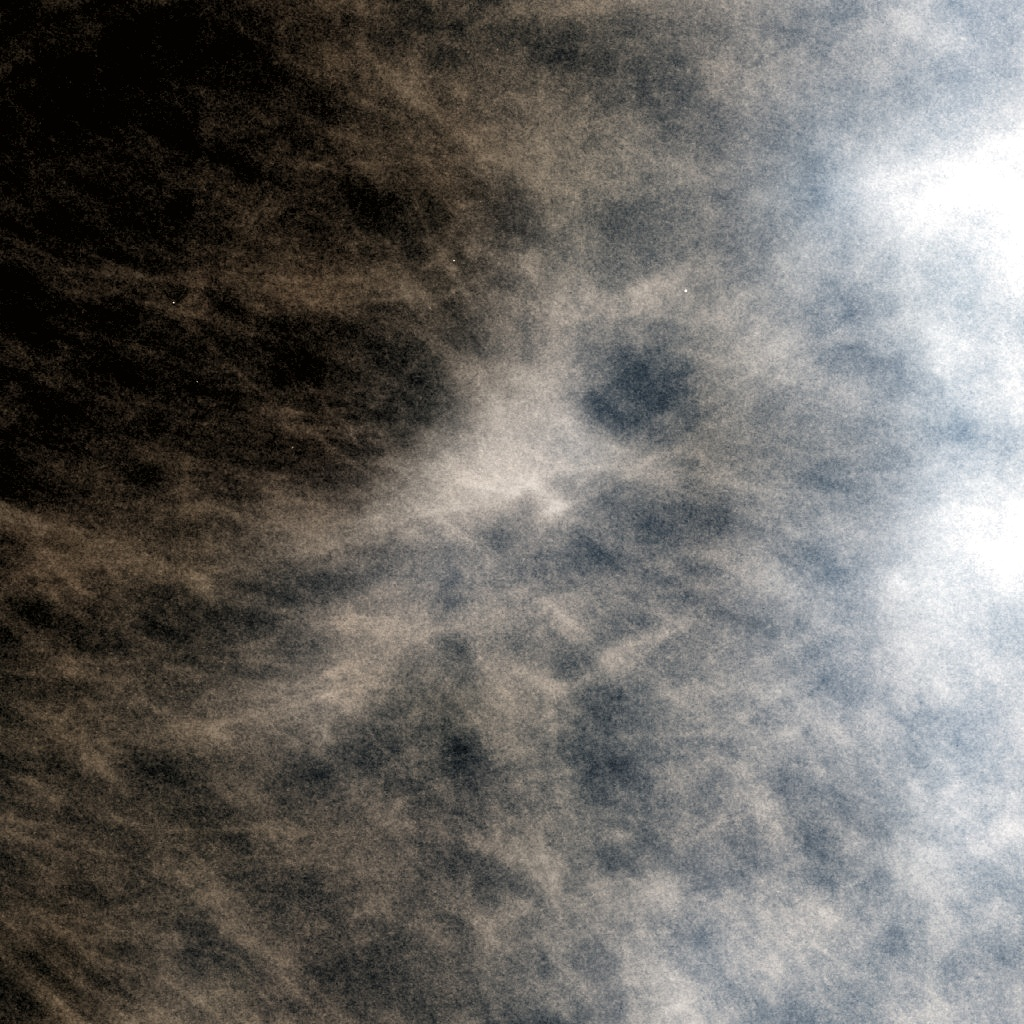tumor: (286, 296, 738, 728)
